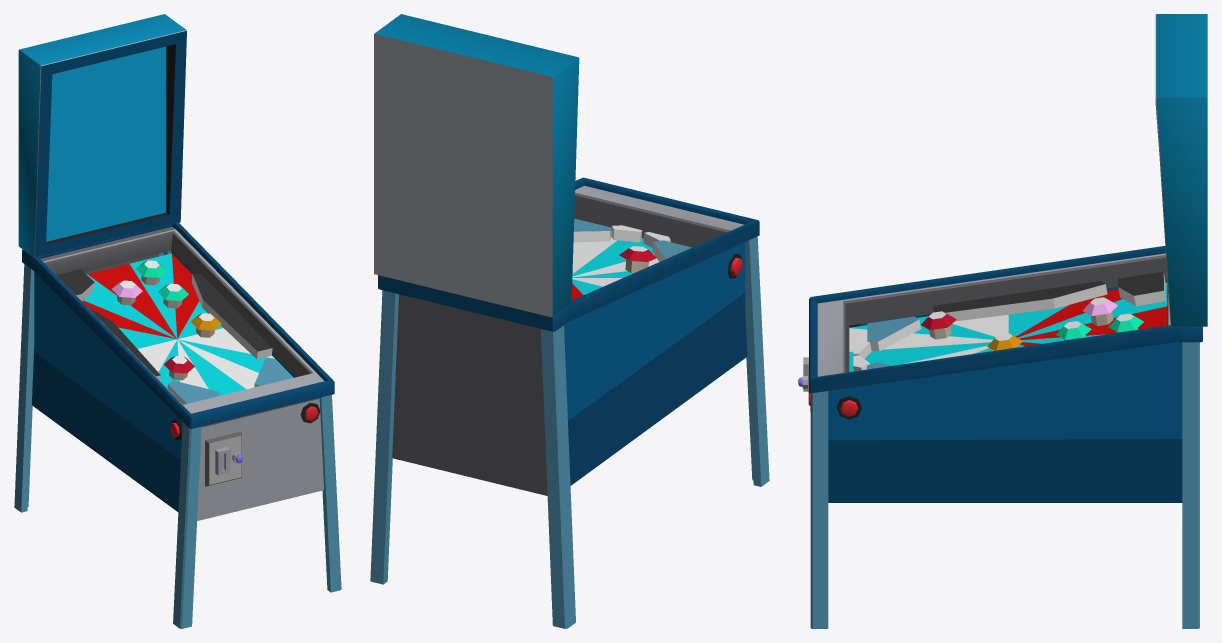
File: Pinball02.glb
The picture shows the model from 3 angles, left to right: view 1: azimuth 30°, elevation 25°; view 2: azimuth 150°, elevation 25°; view 3: azimuth 270°, elevation 25°; orthographic projection. The views are drawn at different scales.
Visible parts, largest first — view 1: flipper 2; view 2: flipper 2; view 3: flipper 2.
Part boxes in pixels (<box>): flipper 2: <box>14,14,341,628</box>; flipper 2: <box>370,14,769,628</box>; flipper 2: <box>798,14,1207,628</box>.
Size of the model in its own units: 0.8011 by 2.14 by 1.51.
Materials: 3 (3 with a texture image).
